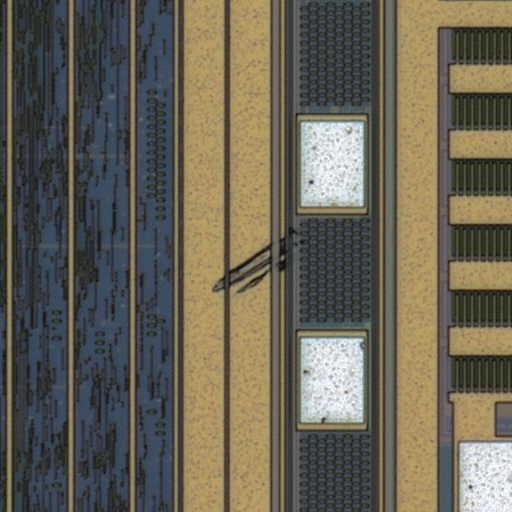SCRATCH: (209, 225, 313, 304)
